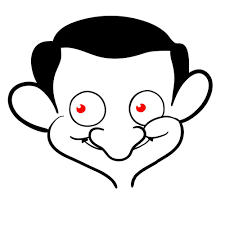mrbean: (5, 12, 214, 189)
